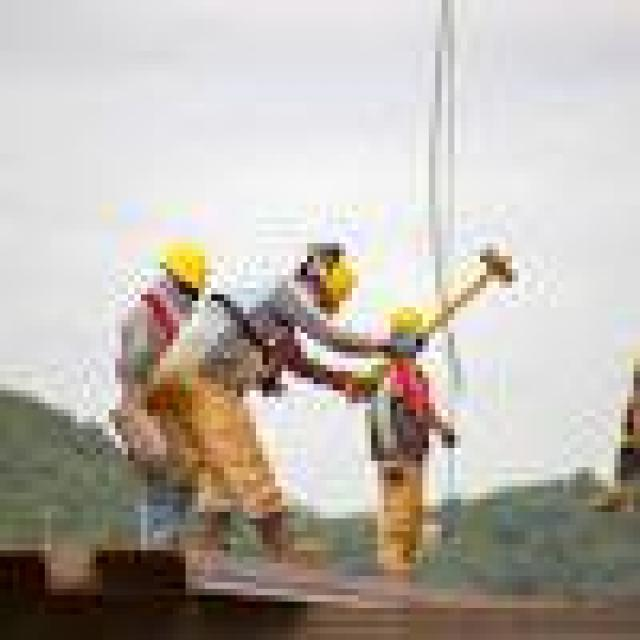Safety-Helmet: (128, 224, 230, 314), (307, 250, 371, 307), (388, 303, 430, 355)
